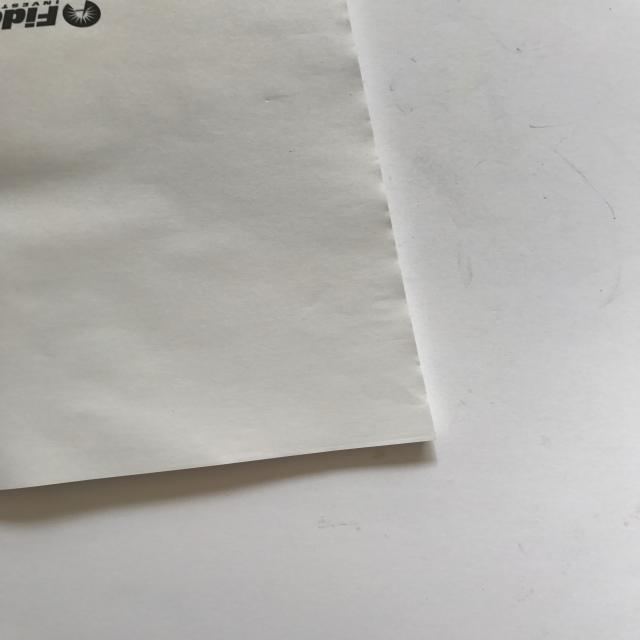paper: (1, 1, 440, 506)
